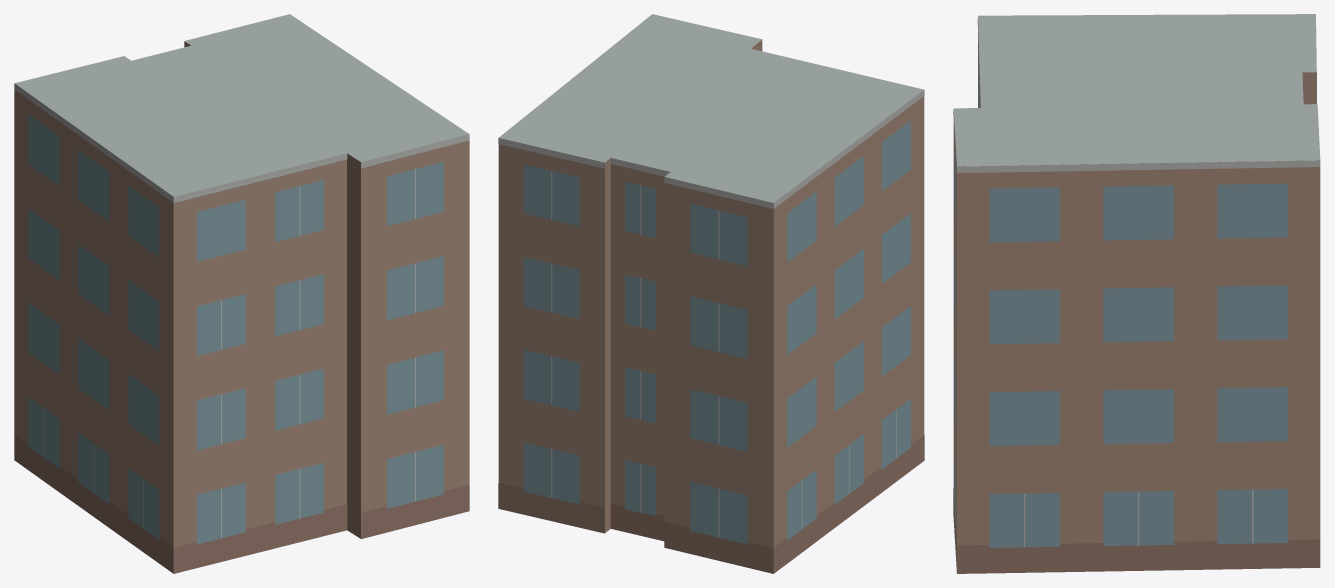
File: survey-upis-32834492.glb
The picture shows the model from 3 angles, left to right: view 1: azimuth 30°, elevation 25°; view 2: azimuth 150°, elevation 25°; view 3: azimuth 270°, elevation 25°; orthographic projection. The views are drawn at different scales.
Parts seen in each view (by area): view 1: survey-upis-32834492.tmp; view 2: survey-upis-32834492.tmp; view 3: survey-upis-32834492.tmp.
Part boxes in pixels (box(x1,y1,x2,y2)): survey-upis-32834492.tmp: box(14, 14, 469, 573); survey-upis-32834492.tmp: box(498, 14, 924, 573); survey-upis-32834492.tmp: box(953, 14, 1320, 573).
Size of the model in its own units: 12.06 by 15 by 12.25.
